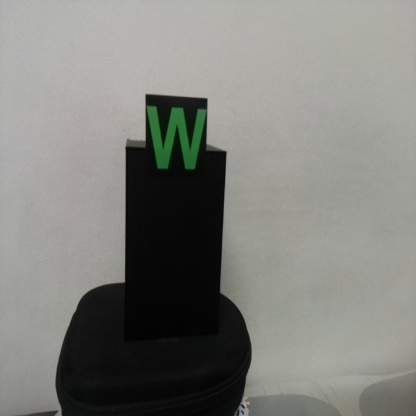id_12: (144, 95, 208, 191)
